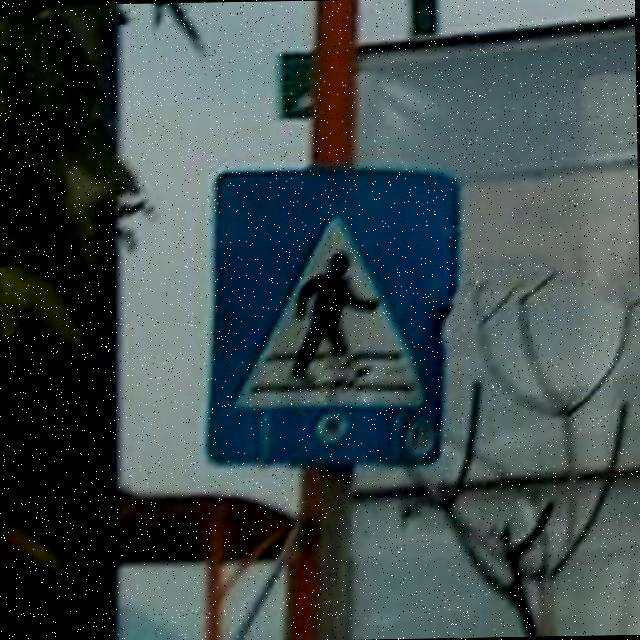Przejscie dla pieszych: (205, 168, 462, 471)
